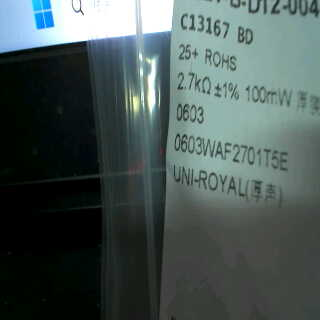2.7kR: (176, 65, 210, 101)
